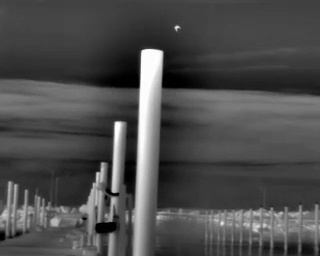BIRD: (172, 22, 182, 34)
